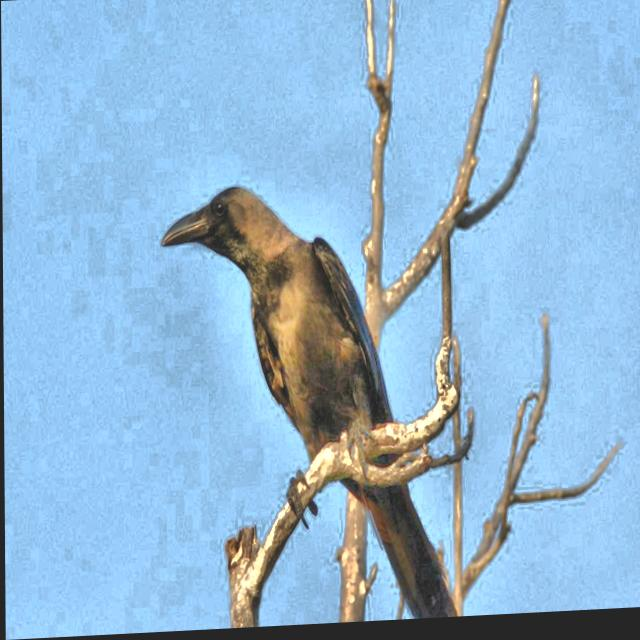crow: (126, 137, 478, 635)
